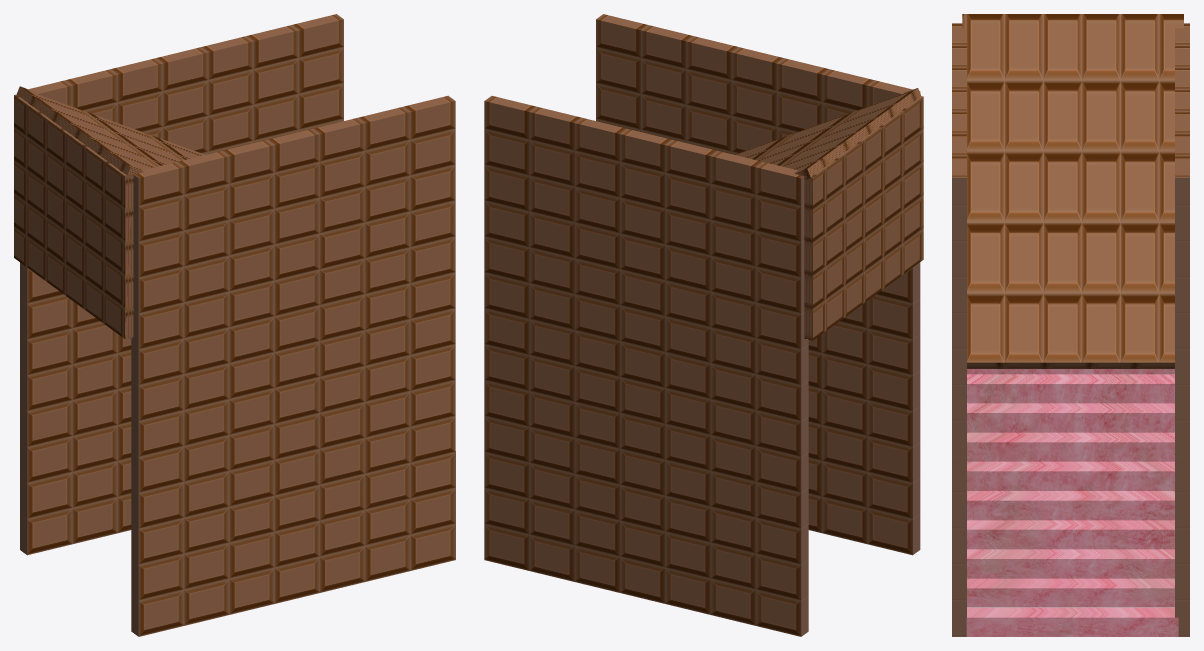
Rendered from Staircase.fbx.
The picture shows the model from 3 angles, left to right: view 1: azimuth 30°, elevation 25°; view 2: azimuth 150°, elevation 25°; view 3: azimuth 270°, elevation 25°; orthographic projection.
Parts seen in each view (by area): view 1: pasted__polySurface203; view 2: pasted__polySurface203; view 3: pasted__polySurface203.
Boxes of the visible parts, box(x1,y1,x2,y2) form: pasted__polySurface203: box(14, 14, 455, 636); pasted__polySurface203: box(484, 14, 923, 636); pasted__polySurface203: box(952, 14, 1189, 636).
Size of the model in its own units: 29.02 by 39.75 by 18.34.
